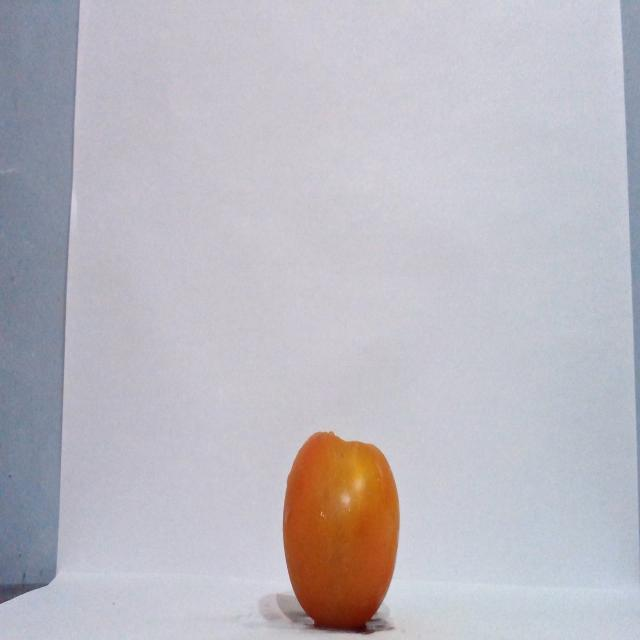Red: (280, 429, 400, 630)
